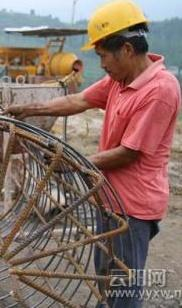hard-hat: (0, 10, 36, 57)
